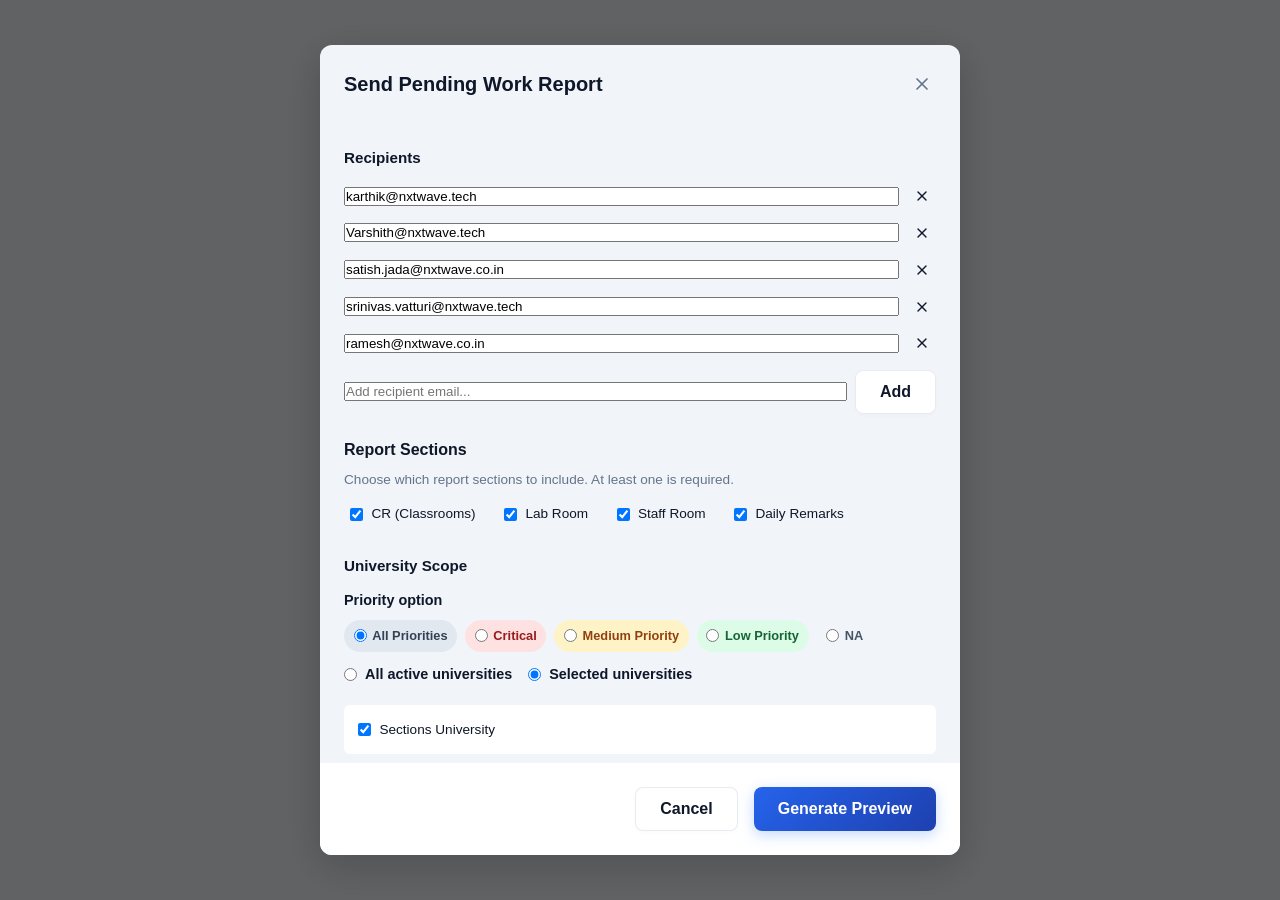
Test: SendReportDialog preview shows section states, normalized statuses, and UTC dates
Click the button "Generate Preview" at (845, 809), box [754,787,936,831]
(page scrolled)
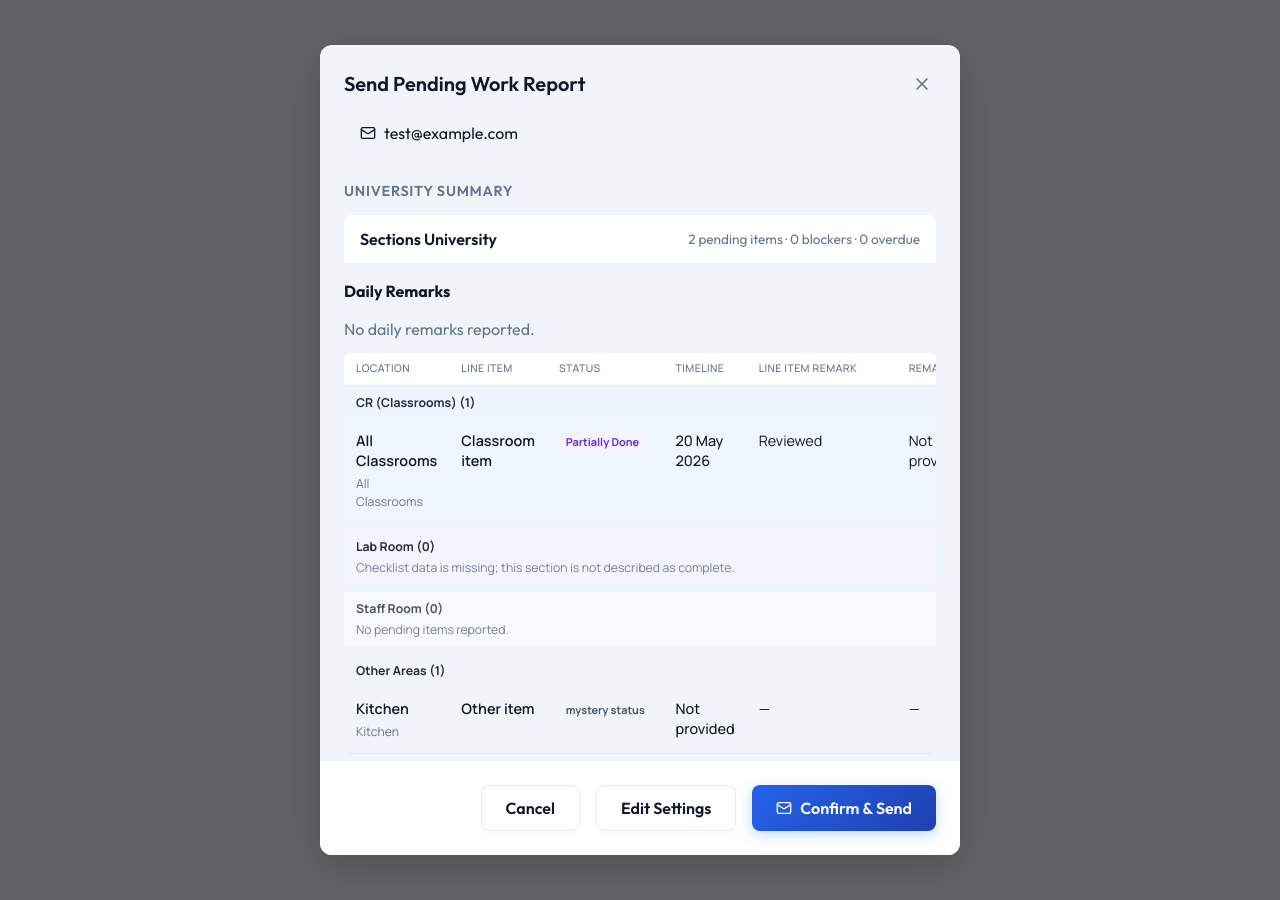
Expected: the text "Partially Done" is shown, [559,431,646,452]
